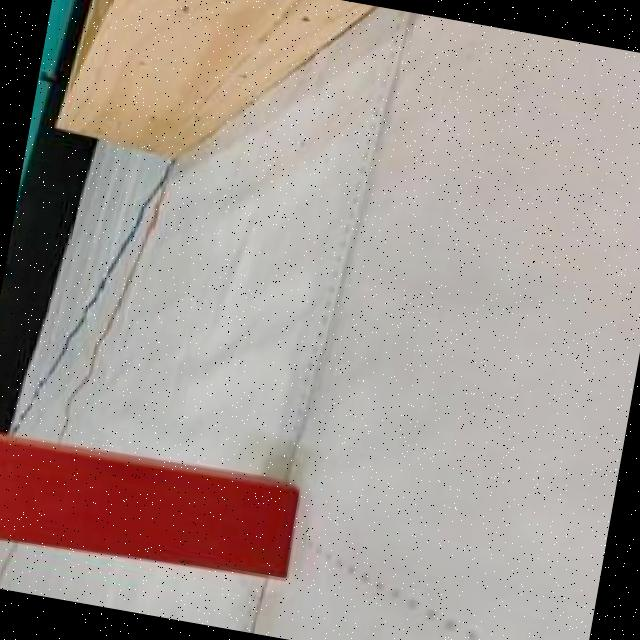redbox: (0, 428, 302, 595)
